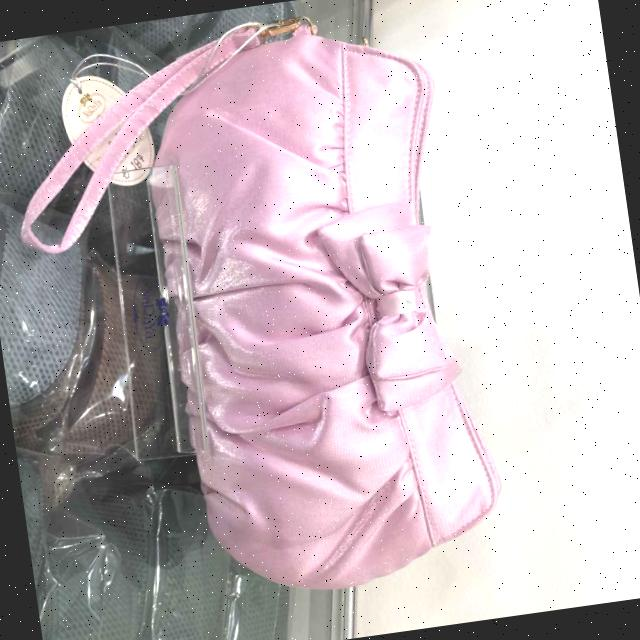Handbag: (118, 0, 520, 628)
